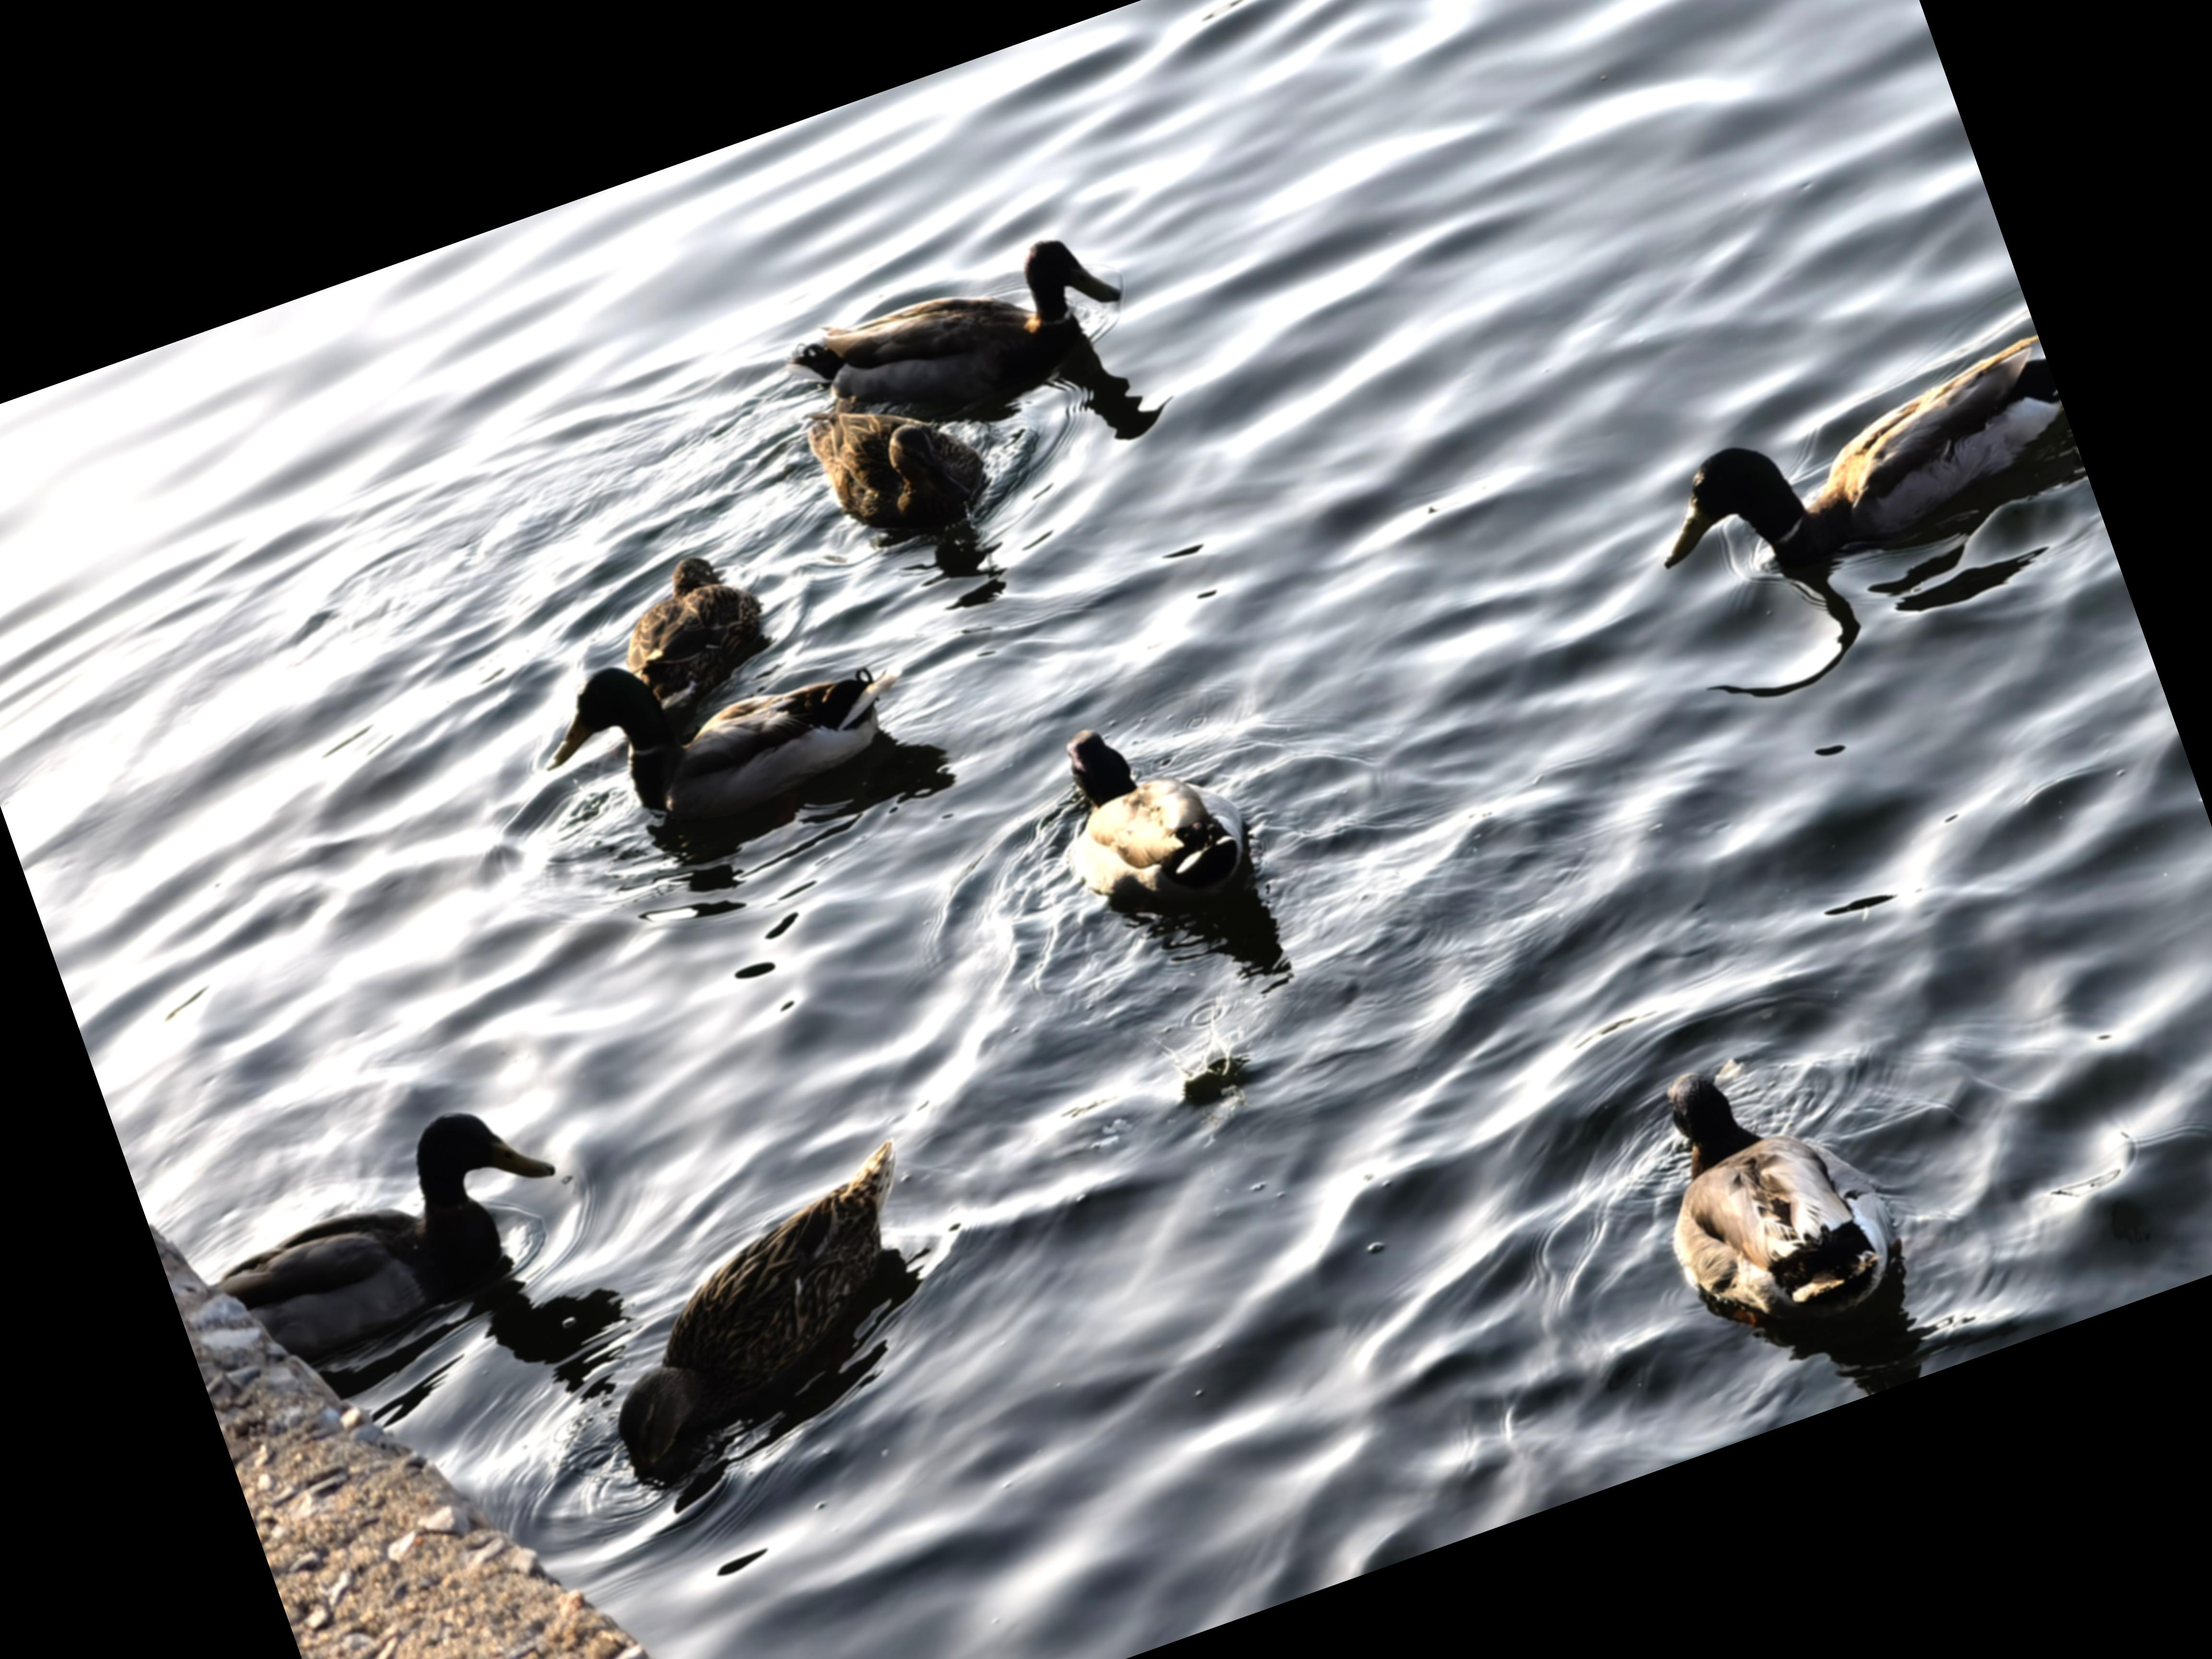duck: (531, 1122, 1000, 1511), (1609, 296, 2097, 652), (1594, 981, 1968, 1384), (526, 570, 965, 897), (172, 1080, 597, 1391), (758, 192, 1165, 493), (1031, 674, 1296, 974), (782, 355, 1024, 586), (594, 535, 805, 709)
